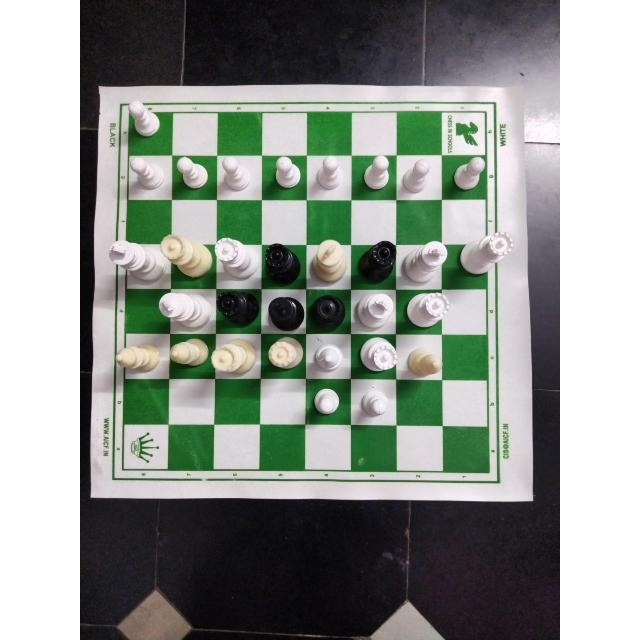black-king: (262, 291, 306, 333)
black-queen: (354, 237, 400, 288), (259, 242, 303, 290), (217, 288, 259, 328), (305, 290, 347, 330)
white-bishop: (110, 338, 162, 383), (402, 339, 442, 381), (165, 338, 211, 374), (309, 338, 346, 380)
white-king: (104, 238, 168, 290), (152, 289, 213, 333), (307, 234, 351, 289), (401, 239, 449, 287), (356, 293, 396, 335)
white-pawn: (171, 151, 212, 194), (122, 100, 164, 139), (215, 154, 253, 196), (309, 153, 345, 197), (396, 158, 436, 197), (448, 154, 487, 194), (263, 157, 306, 193), (355, 156, 394, 195), (126, 156, 166, 192), (307, 382, 343, 420), (355, 387, 397, 418)
white-queen: (157, 226, 215, 284), (455, 230, 518, 278), (207, 336, 263, 384), (212, 230, 260, 286), (401, 285, 452, 331), (356, 335, 400, 377), (261, 336, 306, 376)
